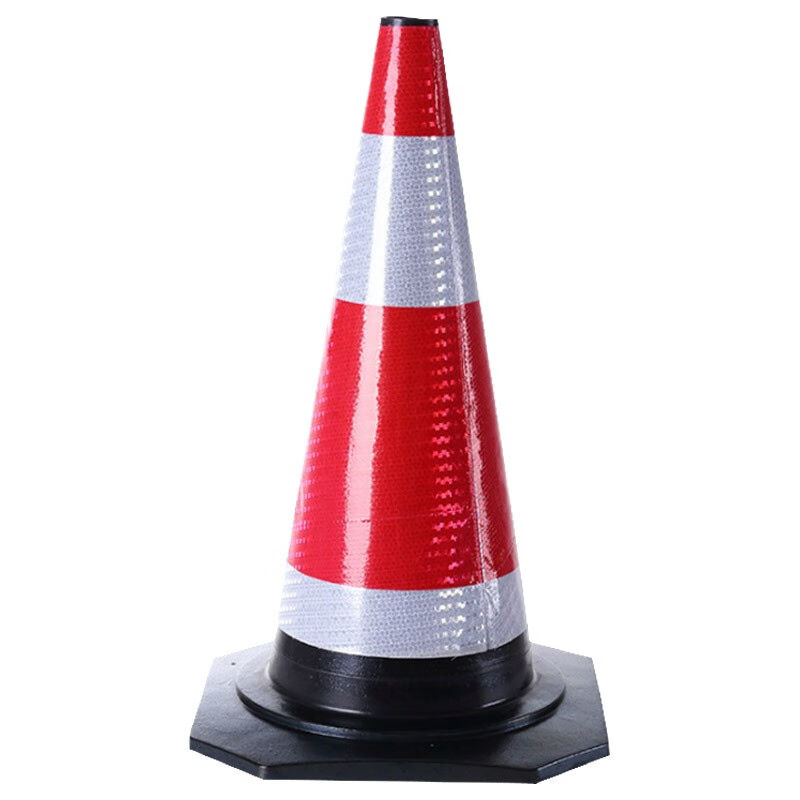traffic_cone: (180, 9, 639, 788)
